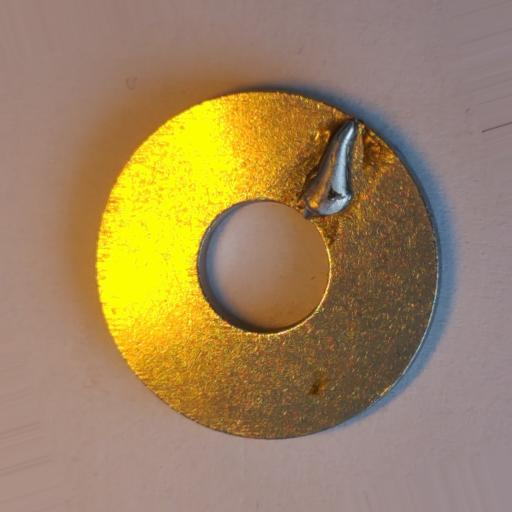excess_material: (301, 118, 358, 217)
